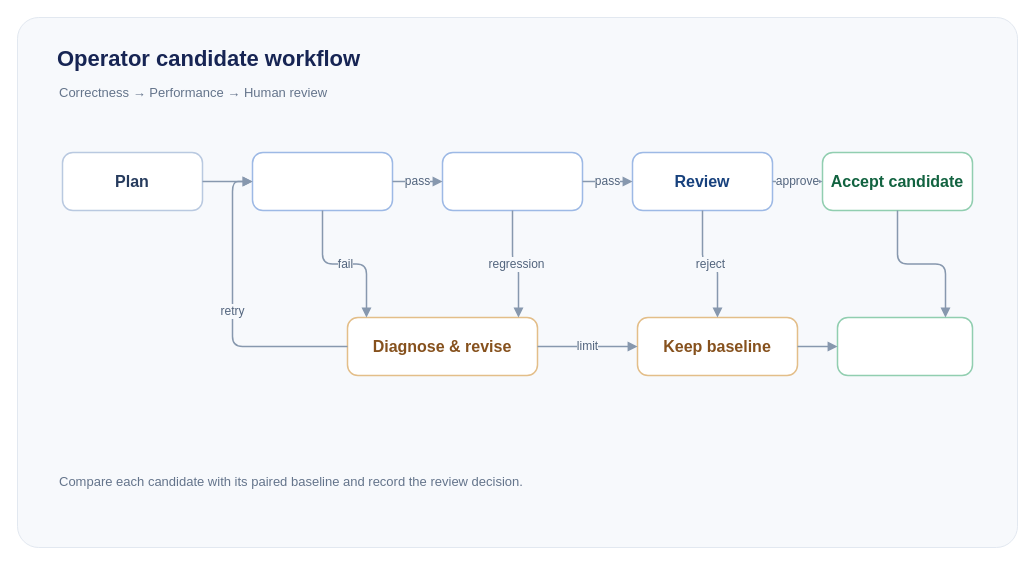
This 1035x565 diagram has some shape labels left out. The shapes that lost their labels are listed below. From the top down, each one's box as (x1, y1, x2, y2) in pixels, then its label:
(251, 151, 393, 211): Validate
(441, 151, 583, 211): Benchmark
(836, 316, 973, 376): Report
